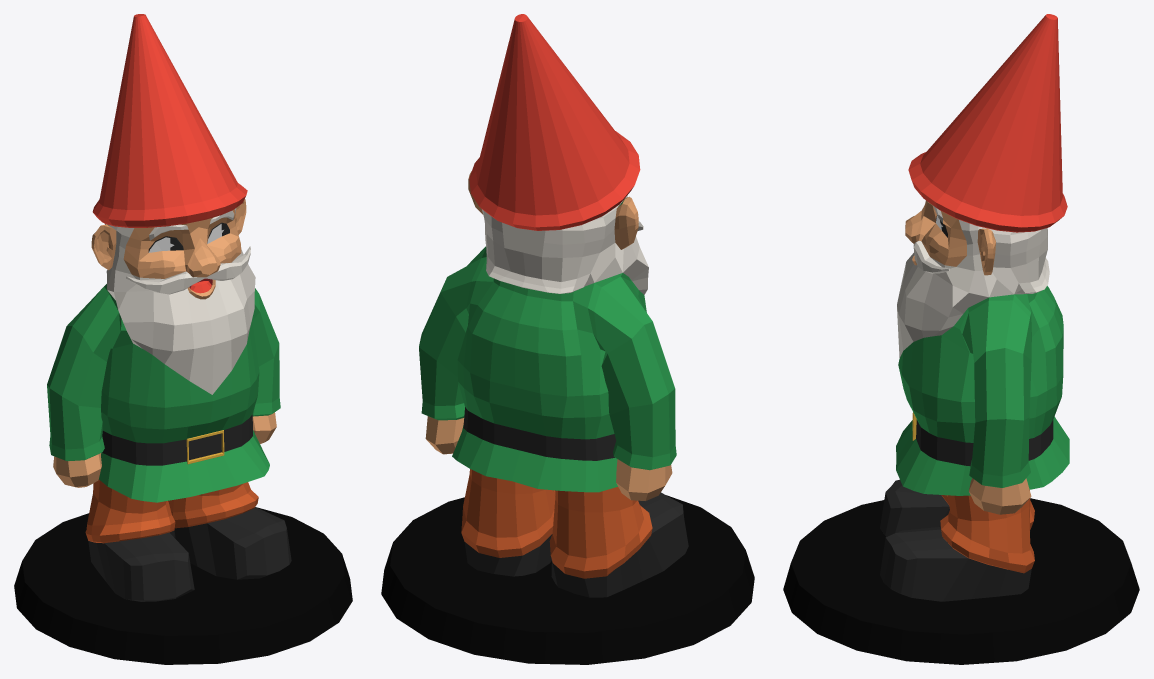
File: Gnome_Unshatered.fbx
3 views of the same model, side by side, from view 1: azimuth 30°, elevation 25°; view 2: azimuth 150°, elevation 25°; view 3: azimuth 270°, elevation 25° (orthographic). The views are drawn at different scales.
Visible parts, largest first — view 1: Gnome_Witness; view 2: Gnome_Witness; view 3: Gnome_Witness.
Boxes of the visible parts, box(x1,y1,x2,y2) form: Gnome_Witness: box(14, 14, 352, 664); Gnome_Witness: box(381, 14, 754, 664); Gnome_Witness: box(783, 14, 1139, 664).
Bounding box in the file's own units: 40.02 × 71.08 × 40.02.
